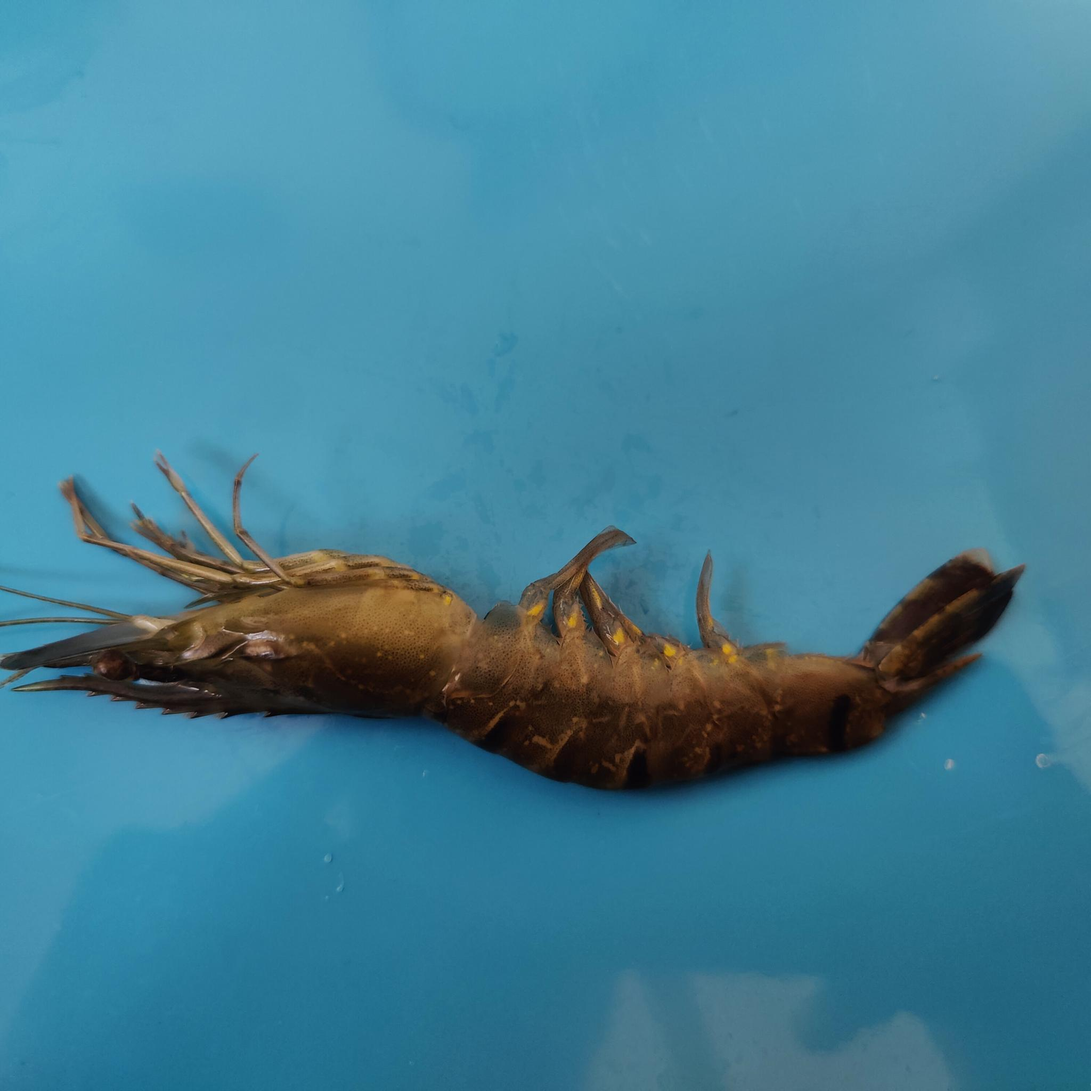whitespot: (282, 613, 638, 760)
